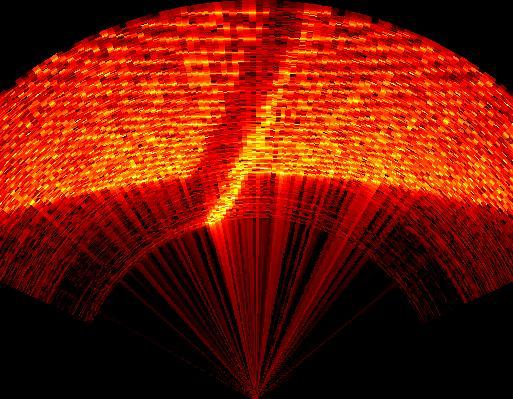pipe: (174, 4, 316, 219)
